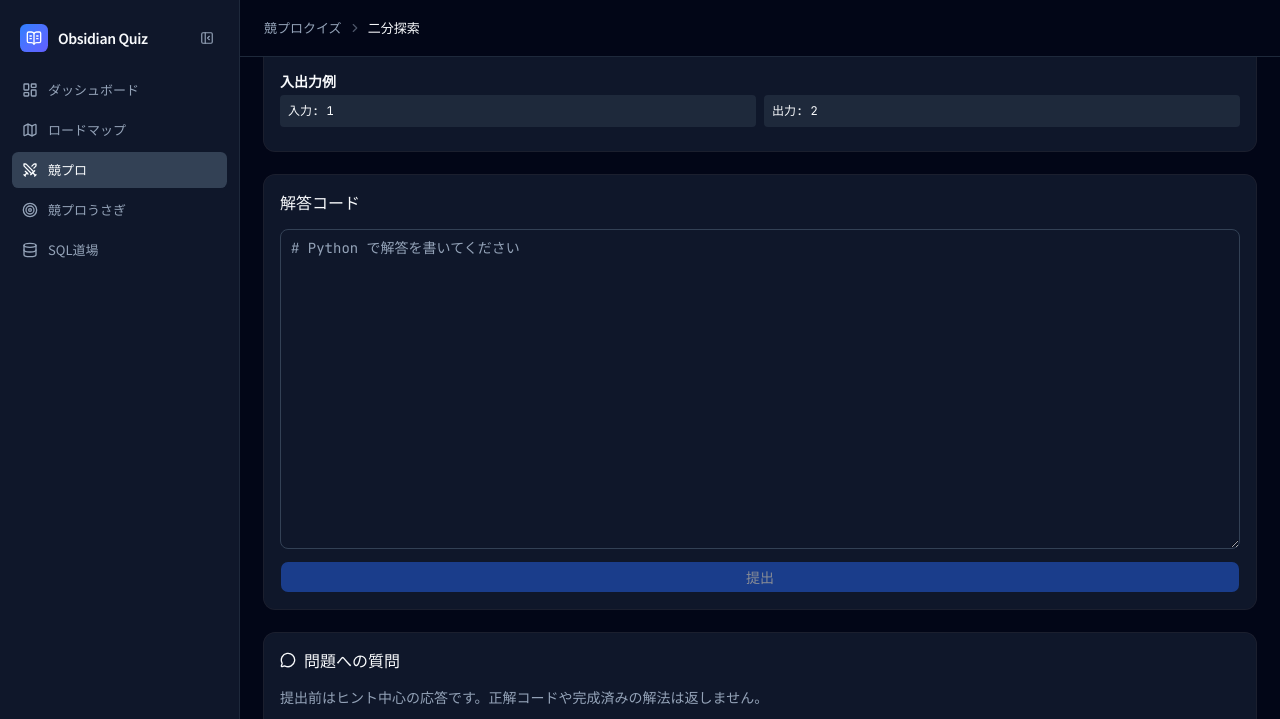
Test case: CompetitiveSessionPage › コード入力欄でTabインデントと質問送信ができる
(page scrolled)
Type "print(1)" into the text box with placeholder "# Python で解答を書いてください" at (760, 388), box [280, 228, 1240, 548]
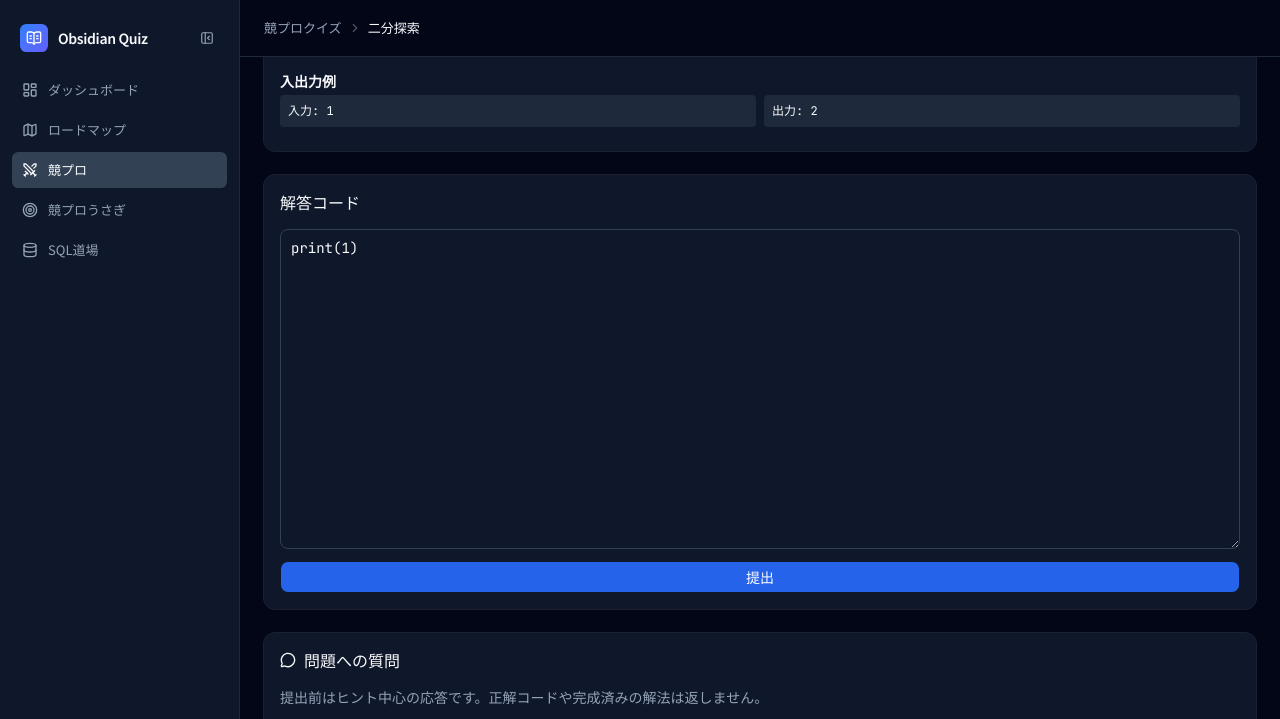
Press Tab in the text box with placeholder "# Python で解答を書いてください", box [280, 228, 1240, 548]
(page scrolled)
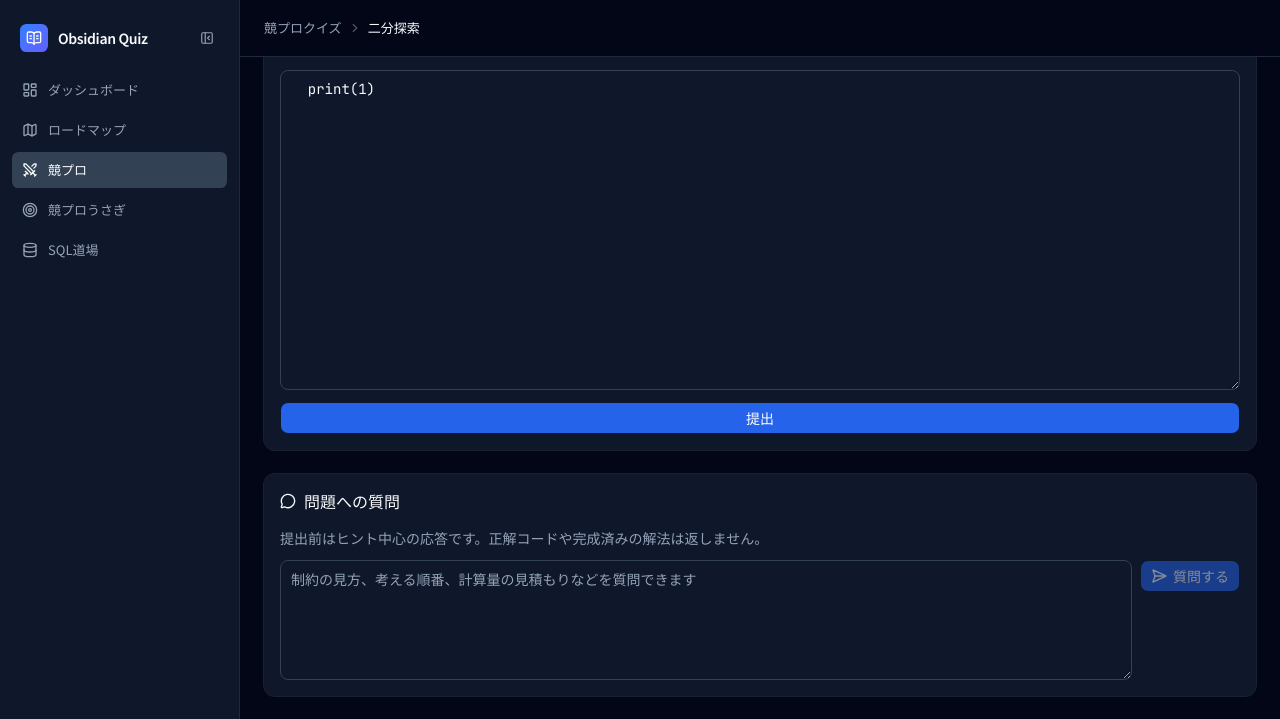
Type "どこから考えればいい？" into the text box with placeholder "制約の見方、考える順番、計算量の見積もりなどを質問できます" at (706, 620), box [280, 560, 1132, 680]
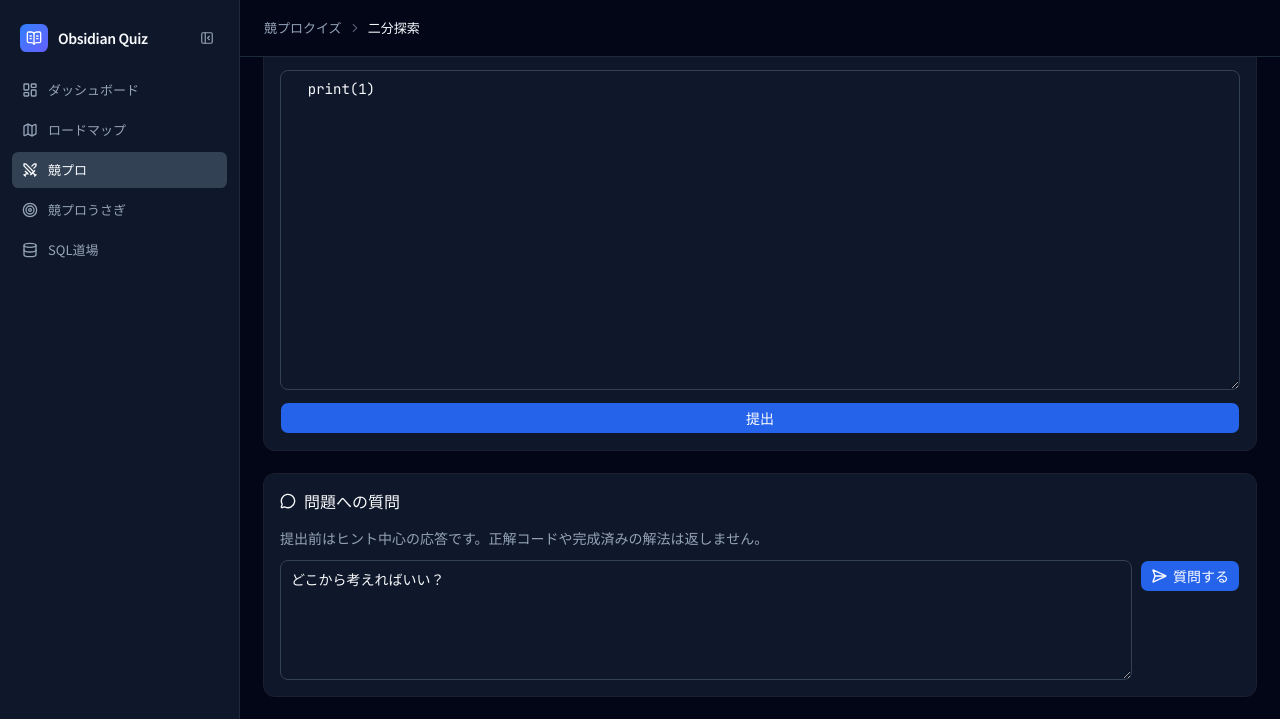
Click the button "質問する" at (1190, 576), box [1140, 560, 1240, 592]
(page scrolled)
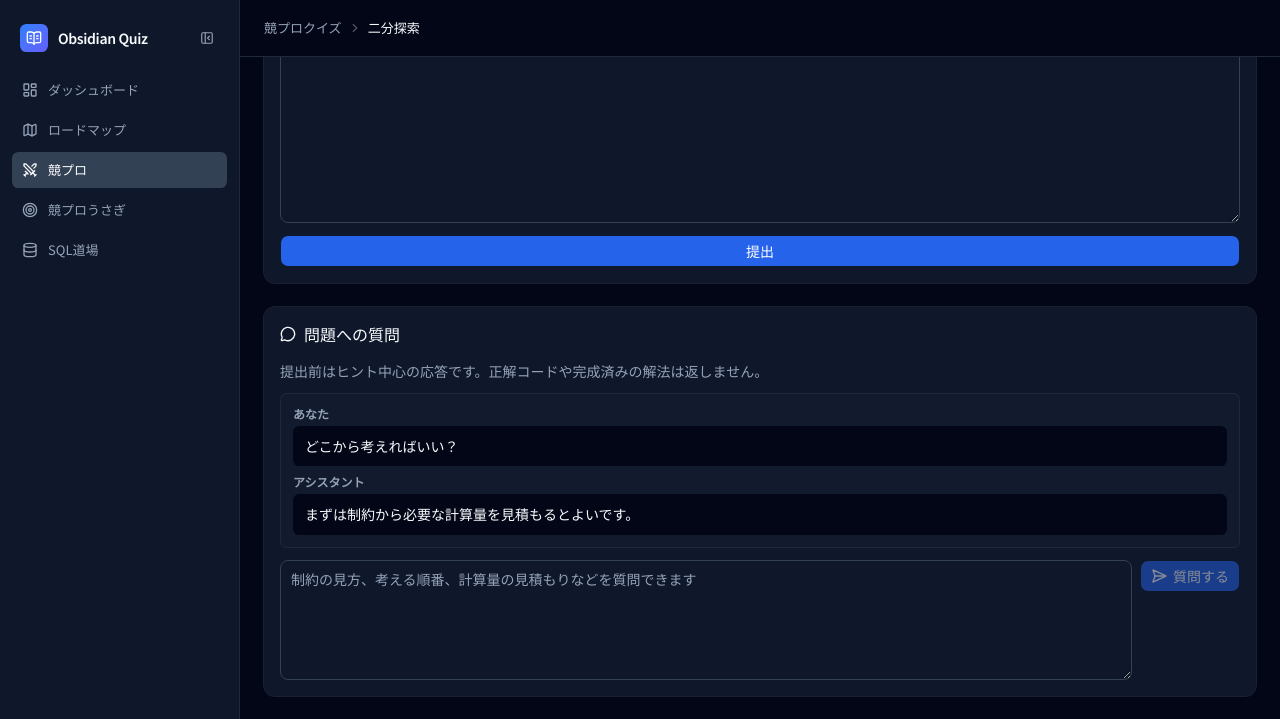
Now the text "まずは制約から必要な計算量を見積もるとよいです。" is shown, box [305, 504, 639, 524]
Now the text box with placeholder "制約の見方、考える順番、計算量の見積もりなどを質問できます" is empty, box [280, 560, 1132, 680]
